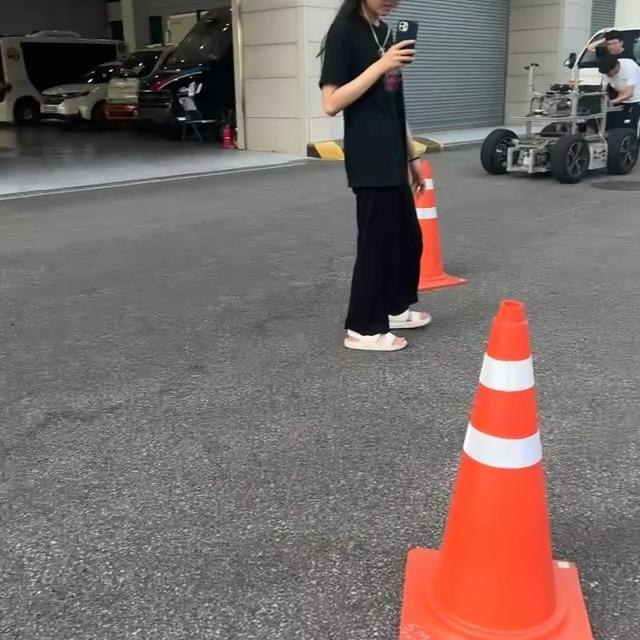fallen_object: (365, 290, 640, 640), (365, 160, 485, 276)
